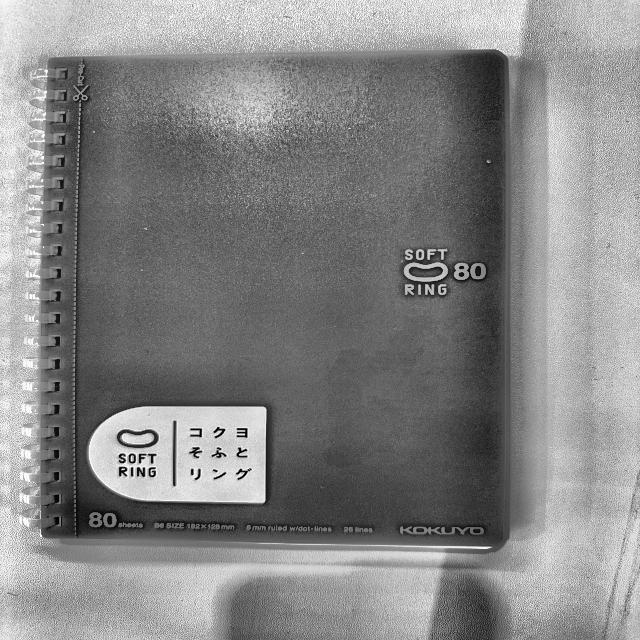Notebook: (25, 46, 527, 560)
